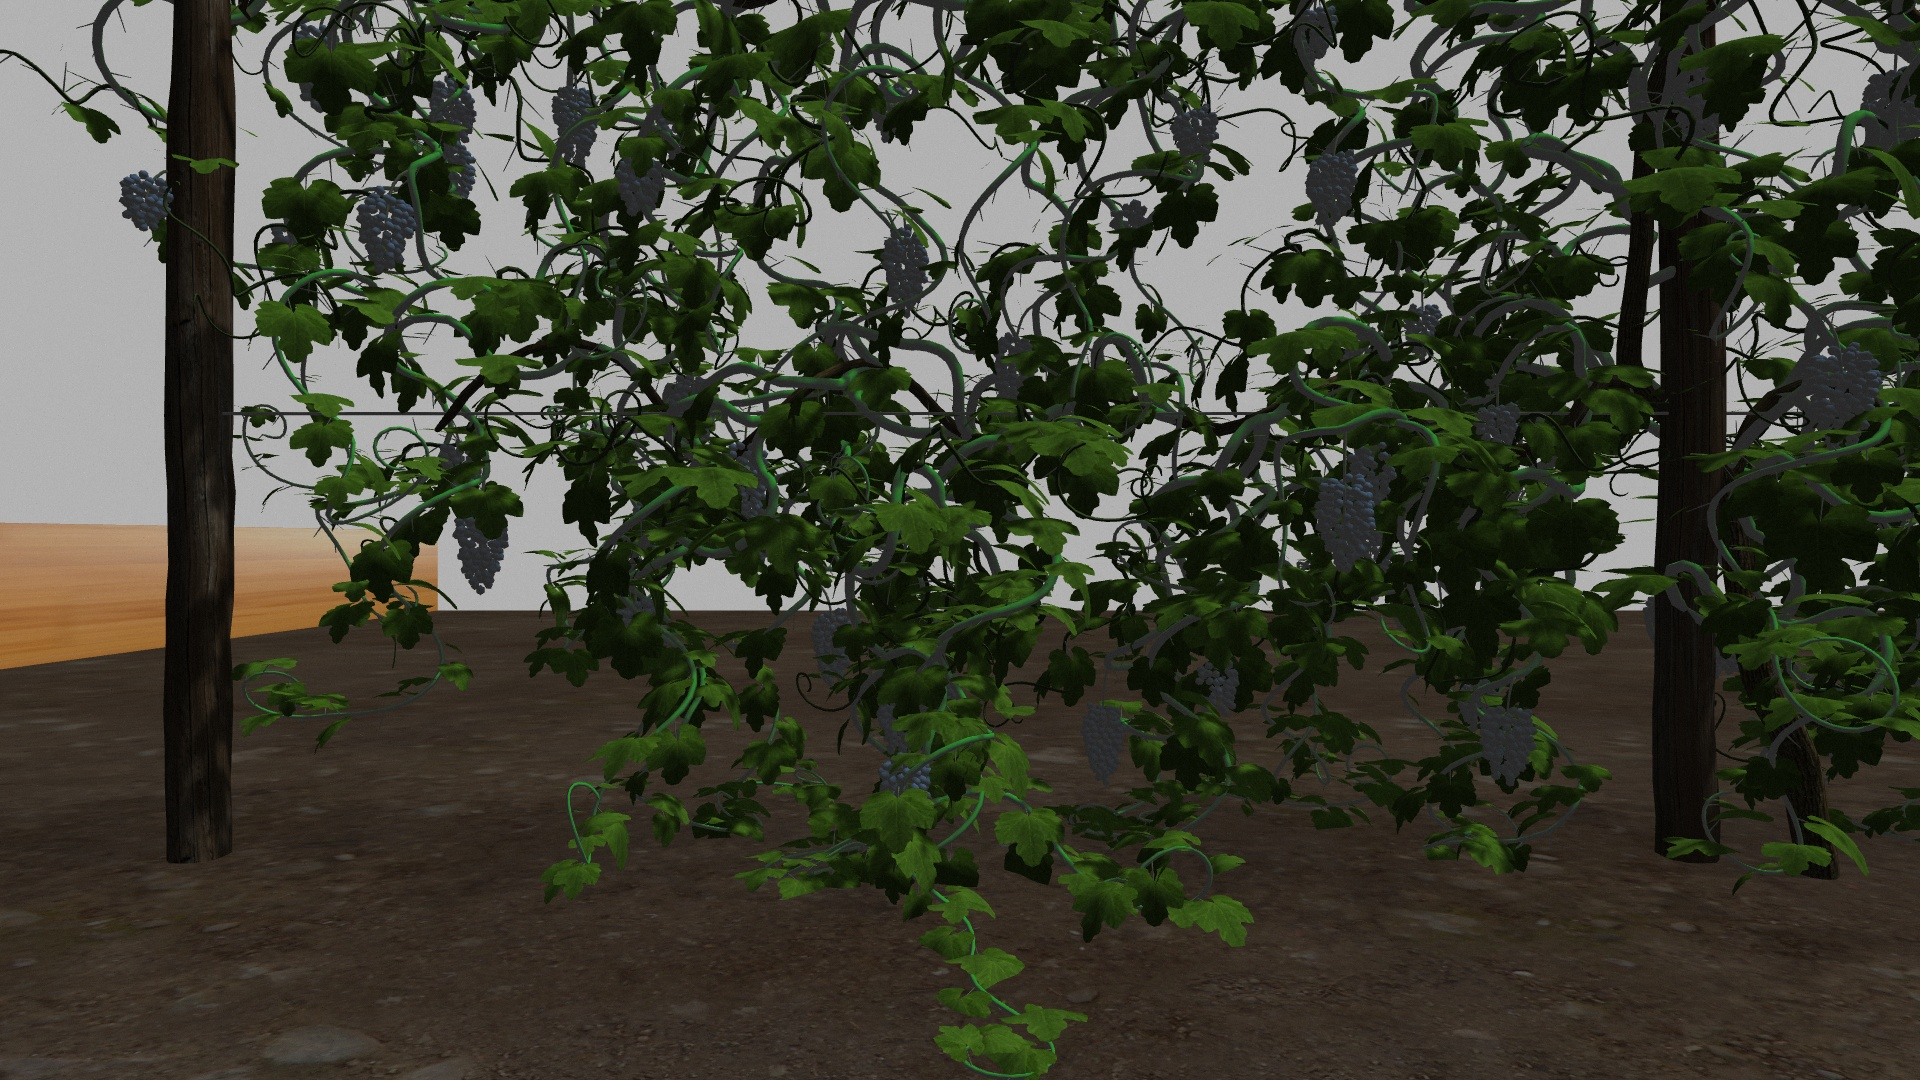grape: (1801, 342, 1884, 429), (1313, 473, 1377, 576), (452, 498, 512, 600), (355, 189, 422, 276), (1480, 705, 1538, 789), (1859, 67, 1915, 152), (1304, 149, 1360, 228), (882, 228, 930, 318), (1081, 702, 1131, 786), (551, 86, 599, 160), (811, 608, 855, 687), (992, 332, 1040, 401), (120, 170, 175, 229), (429, 76, 477, 142), (613, 156, 663, 218), (1170, 107, 1218, 162), (1196, 658, 1240, 719), (1352, 443, 1396, 498), (1298, 7, 1338, 62), (1404, 303, 1444, 360), (878, 758, 932, 794), (1478, 401, 1520, 446)
